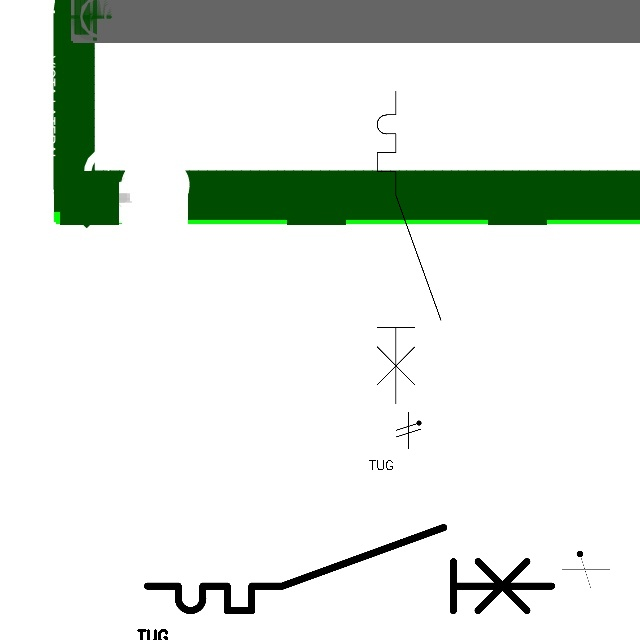interruptor_termomagnetico: (137, 517, 562, 621), (369, 83, 449, 411)
